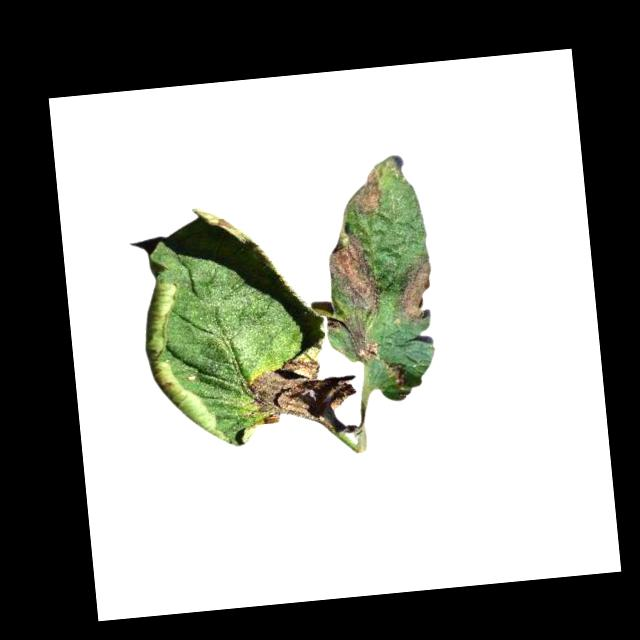Late_blight: (241, 349, 358, 424), (324, 221, 383, 317), (391, 254, 436, 324), (325, 312, 379, 367), (340, 167, 383, 215), (379, 357, 409, 390)
